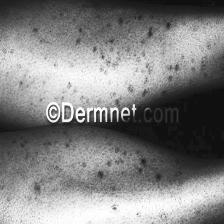Benign Marking or Mole: (90, 32, 180, 90), (18, 25, 78, 94), (86, 142, 156, 182), (104, 189, 149, 224), (26, 171, 58, 207)
